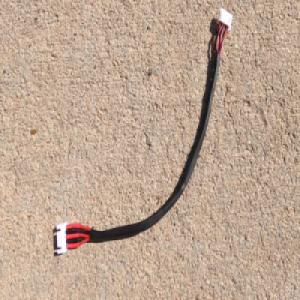Wire: (50, 3, 232, 257)
